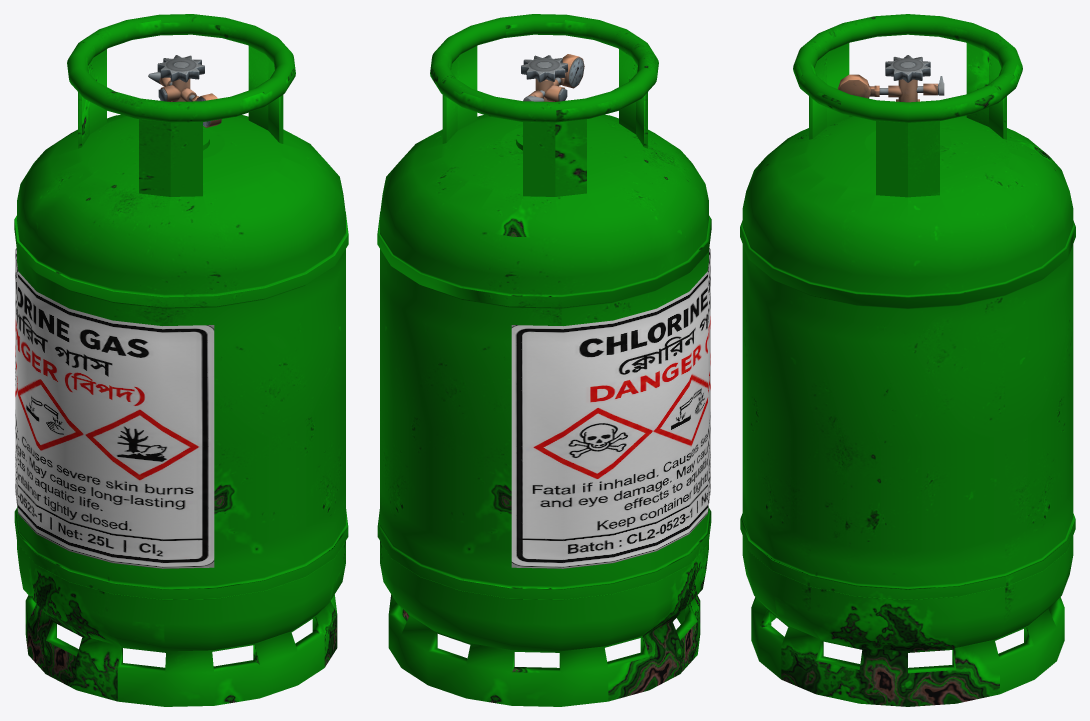
File: ChlorineGas.glb
3 views of the same model, side by side, from view 1: azimuth 30°, elevation 25°; view 2: azimuth 150°, elevation 25°; view 3: azimuth 270°, elevation 25° (orthographic).
Parts seen in each view (by area): view 1: pTorus3, pTorus3.001, Props_balon_big_balon_all_3_0; view 2: pTorus3, pTorus3.001, Props_balon_big_balon_all_3_0; view 3: pTorus3, Props_balon_big_balon_all_3_0.
Part boxes in pixels (bbox=[...]): pTorus3: bbox=[14, 14, 348, 706]; pTorus3.001: bbox=[15, 248, 214, 568]; Props_balon_big_balon_all_3_0: bbox=[148, 55, 221, 127]; pTorus3: bbox=[377, 14, 711, 706]; pTorus3.001: bbox=[511, 248, 710, 568]; Props_balon_big_balon_all_3_0: bbox=[521, 54, 584, 101]; pTorus3: bbox=[740, 14, 1075, 706]; Props_balon_big_balon_all_3_0: bbox=[837, 55, 944, 102].
Bounding box in the file's own units: 0.3204 × 0.6126 × 0.3204.
Materials: 5 (4 with a texture image).
